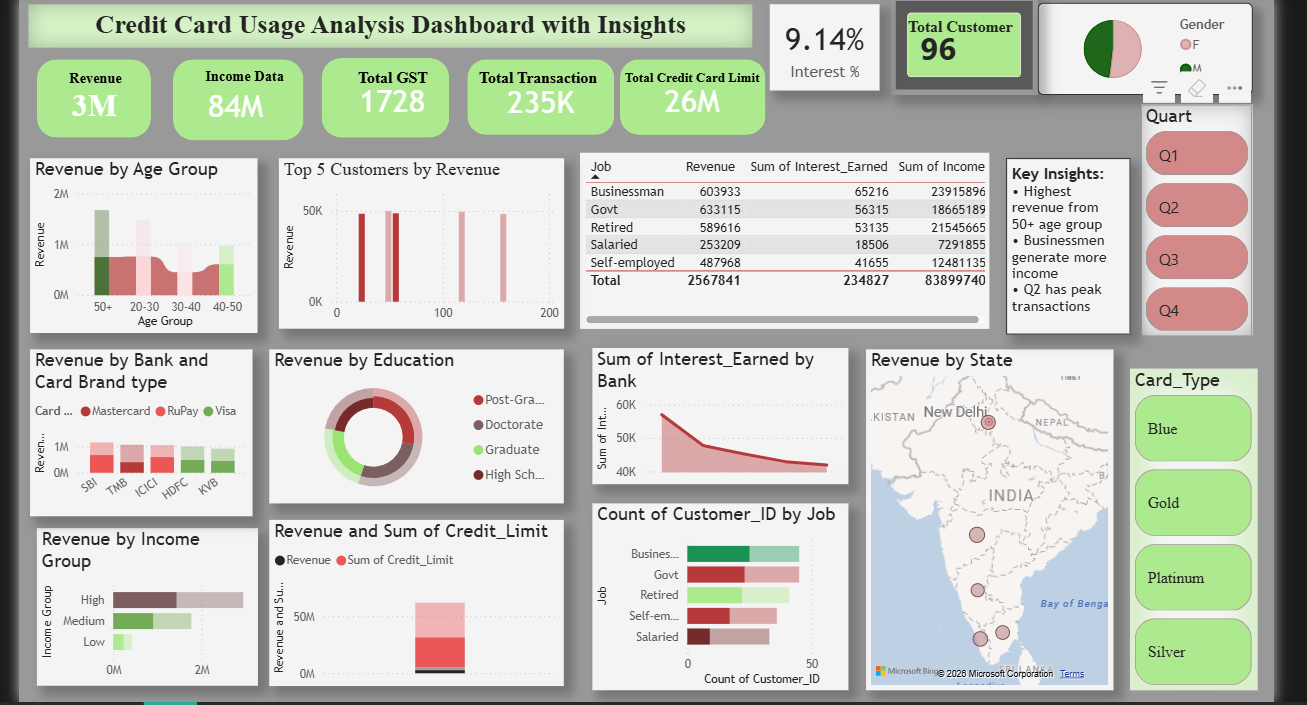

The page's visual inventory and layout, read from the dashboard file:
{"tool":"powerbi","page":{"name":"Page 1","canvas":[1280,720],"ordinal":0},"visuals":[{"type":"shape","box":[18.2,64.5,116.4,79.9],"z":0},{"type":"shape","box":[612.7,64.5,148.6,77.1],"z":1000},{"type":"pieChart","fields":{"Category":["CreditCardData.Gender"],"Y":["CountNonNull(CreditCardData.Customer_ID)"]},"box":[1039.4,6.8,218.8,94],"z":2000},{"type":"shape","box":[308.5,63.1,130.4,81.3],"z":3000},{"type":"shape","box":[457.1,64.5,150,77.1],"z":4000},{"type":"shape","box":[157,64.5,133.2,82.7],"z":5000},{"type":"card","fields":{"Values":["CreditCardData.Revenue"]},"box":[33.6,84.1,86.9,53.3],"z":6000},{"type":"card","fields":{"Values":["CreditCardData.Total Interest"]},"box":[464.1,74.3,136,65.9],"z":7000},{"type":"card","fields":{"Values":["CreditCardData.Income Data"]},"box":[165.4,88.3,110.8,46.3],"z":8000},{"type":"textbox","box":[10.3,8.5,738.5,44.4],"z":9000},{"type":"textbox","box":[46.3,70.1,109.4,44.9],"z":10000},{"type":"textbox","box":[185.1,68.7,105.2,30.8],"z":11000},{"type":"textbox","box":[340.7,68.7,98.1,43.5],"z":12000},{"type":"textbox","box":[464.1,68.7,148.6,39.3],"z":13000},{"type":"ribbonChart","fields":{"Category":["CreditCardData.Age Group"],"Y":["CreditCardData.Revenue"]},"box":[11.7,165,231.7,178.3],"z":14000},{"type":"clusteredBarChart","fields":{"Category":["CreditCardData.Income Group"],"Y":["CreditCardData.Revenue"]},"box":[18.8,541.9,225.7,160.7],"z":15000},{"type":"tableEx","fields":{"Values":["CreditCardData.Job","CreditCardData.Revenue","Sum(CreditCardData.Interest_Earned)","Sum(CreditCardData.Income)"]},"box":[572,159.8,417.8,179.5],"z":16000},{"type":"columnChart","fields":{"Category":["CreditCardData.Bank"],"Y":["CreditCardData.Revenue"],"Series":["CreditCardData.Card Brand type"]},"box":[11.7,360,226.7,170],"z":17000},{"type":"donutChart","fields":{"Category":["CreditCardData.Education"],"Y":["CreditCardData.Revenue"]},"box":[255.2,360.3,300,157],"z":18000},{"type":"map","title":"Revenue by State","fields":{"Category":["CreditCardData.State"],"Size":["CreditCardData.Revenue"]},"box":[863.7,360.3,252.4,347.7],"z":19000},{"type":"columnChart","fields":{"Y":["CreditCardData.Revenue","Sum(CreditCardData.Credit_Limit)"]},"box":[255.2,534.2,300,169.6],"z":20000},{"type":"advancedSlicerVisual","title":"Quart","fields":{"Values":["CreditCardData.Quarter"]},"box":[1143.7,111.1,114.5,235.9],"z":21000},{"type":"advancedSlicerVisual","fields":{"Values":["CreditCardData.Card_Type"]},"box":[1133.5,379.5,129.9,328.2],"z":22000},{"type":"cardVisual","fields":{"Data":["CountNonNull(CreditCardData.Customer_ID)"]},"box":[888.9,0,150,100.9],"z":23000},{"type":"textbox","box":[901,17.1,124.8,44.4],"z":24000},{"type":"card","fields":{"Values":["Sum(CreditCardData.GST)"]},"box":[337.9,75.7,85.5,61.7],"z":25000},{"type":"clusteredBarChart","fields":{"Y":["CountNonNull(CreditCardData.Customer_ID)"],"Category":["CreditCardData.Job"]},"box":[584.7,517.4,260.8,190.7],"z":26000},{"type":"areaChart","fields":{"Category":["CreditCardData.Bank"],"Y":["Sum(CreditCardData.Interest_Earned)"]},"box":[584.7,358.9,260.8,138.8],"z":27000},{"type":"card","fields":{"Values":["Sum(CreditCardData.Credit_Limit)"]},"box":[633.7,74.3,105.2,64.5],"z":28000},{"type":"textbox","box":[612.7,70.1,158.4,43.5],"z":29000},{"type":"columnChart","title":"Top 5 Customers by Revenue","fields":{"Category":["CreditCardData.Customer_ID"],"Y":["CreditCardData.Revenue"]},"box":[264.5,165.3,290.9,174.1],"z":30000},{"type":"textbox","box":[1006.7,165.4,126.2,179.5],"z":31000},{"type":"card","fields":{"Values":["CreditCardData.Interest %"]},"box":[765.5,8.4,112.2,88.3],"z":32000}]}

Visuals, with their boxes in screenshot pixels (x1, y1, x2, y2):
shape: [left=48, top=79, right=161, bottom=156]
shape: [left=622, top=79, right=765, bottom=154]
pieChart - CreditCardData.Gender x CountNonNull(CreditCardData.Customer_ID): [left=1034, top=24, right=1245, bottom=114]
shape: [left=328, top=78, right=454, bottom=156]
shape: [left=472, top=79, right=616, bottom=154]
shape: [left=182, top=79, right=311, bottom=159]
card - CreditCardData.Revenue: [left=63, top=98, right=147, bottom=150]
card - CreditCardData.Total Interest: [left=478, top=89, right=610, bottom=152]
card - CreditCardData.Income Data: [left=190, top=102, right=297, bottom=147]
textbox: [left=41, top=25, right=753, bottom=68]
textbox: [left=75, top=85, right=181, bottom=128]
textbox: [left=209, top=83, right=311, bottom=113]
textbox: [left=359, top=83, right=454, bottom=125]
textbox: [left=478, top=83, right=622, bottom=121]
ribbonChart - CreditCardData.Age Group x CreditCardData.Revenue: [left=42, top=176, right=266, bottom=348]
clusteredBarChart - CreditCardData.Income Group x CreditCardData.Revenue: [left=49, top=540, right=267, bottom=695]
tableEx - CreditCardData.Job x CreditCardData.Revenue: [left=583, top=171, right=986, bottom=344]
columnChart - CreditCardData.Bank x CreditCardData.Revenue: [left=42, top=364, right=261, bottom=528]
donutChart - CreditCardData.Education x CreditCardData.Revenue: [left=277, top=365, right=566, bottom=516]
"Revenue by State" map: [left=864, top=365, right=1108, bottom=700]
columnChart - CreditCardData.Revenue x Sum(CreditCardData.Credit_Limit): [left=277, top=533, right=566, bottom=696]
"Quart" advancedSlicerVisual: [left=1134, top=124, right=1245, bottom=352]
advancedSlicerVisual - CreditCardData.Card_Type: [left=1124, top=383, right=1250, bottom=700]
cardVisual - CountNonNull(CreditCardData.Customer_ID): [left=888, top=17, right=1033, bottom=114]
textbox: [left=900, top=34, right=1021, bottom=76]
card - Sum(CreditCardData.GST): [left=357, top=90, right=439, bottom=150]
clusteredBarChart - CountNonNull(CreditCardData.Customer_ID) x CreditCardData.Job: [left=595, top=516, right=847, bottom=700]
areaChart - CreditCardData.Bank x Sum(CreditCardData.Interest_Earned): [left=595, top=363, right=847, bottom=497]
card - Sum(CreditCardData.Credit_Limit): [left=642, top=89, right=744, bottom=151]
textbox: [left=622, top=85, right=775, bottom=127]
"Top 5 Customers by Revenue" columnChart: [left=286, top=177, right=567, bottom=345]
textbox: [left=1002, top=177, right=1124, bottom=350]
card - CreditCardData.Interest %: [left=769, top=25, right=878, bottom=110]
